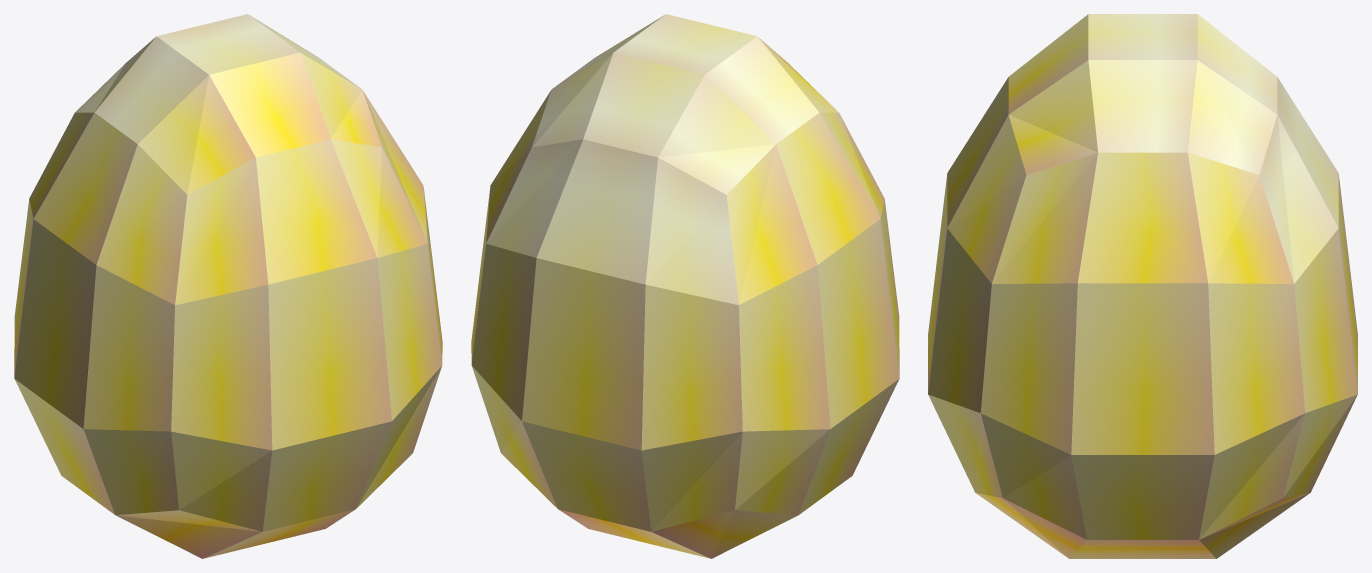
Rendered from egg02.fbx.
3 renders of one model, left to right at view 1: azimuth 30°, elevation 25°; view 2: azimuth 150°, elevation 25°; view 3: azimuth 270°, elevation 25°, orthographic. The views are drawn at different scales.
Visible parts, largest first — view 1: egg02; view 2: egg02; view 3: egg02.
Part boxes in pixels (x1,y1,x2,y2): egg02: [14, 14, 442, 558]; egg02: [471, 14, 899, 558]; egg02: [928, 14, 1357, 558].
Size of the model in its own units: 74.25 by 93.54 by 74.25.
